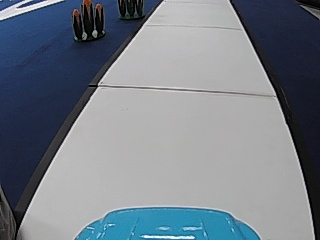corn: (71, 0, 106, 41), (117, 0, 144, 20)
